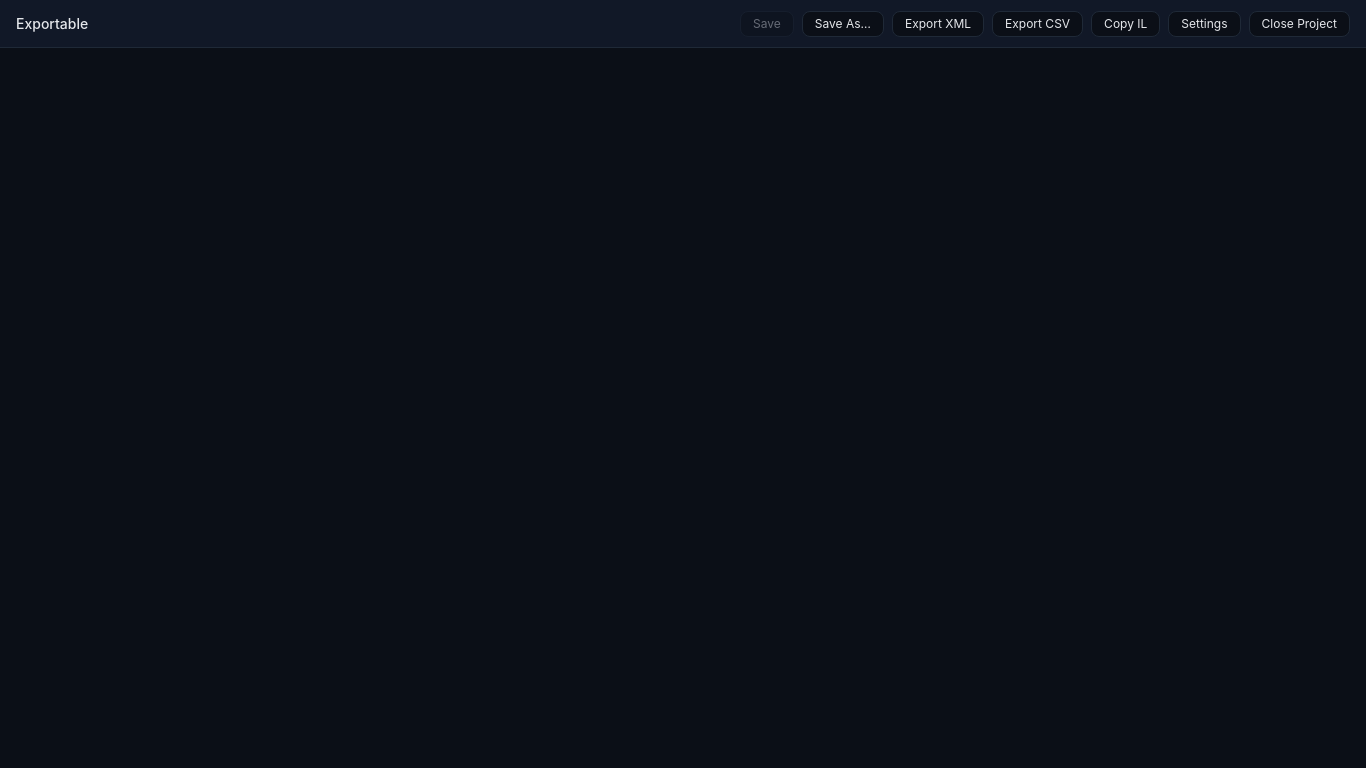
Scenario: ProjectToolbar error toasts (replaces window.alert) › Export XML failure shows an error toast instead of window.alert
Click the button with test id "export-xml-btn".
click(938, 24)  # box [892,10,984,36]
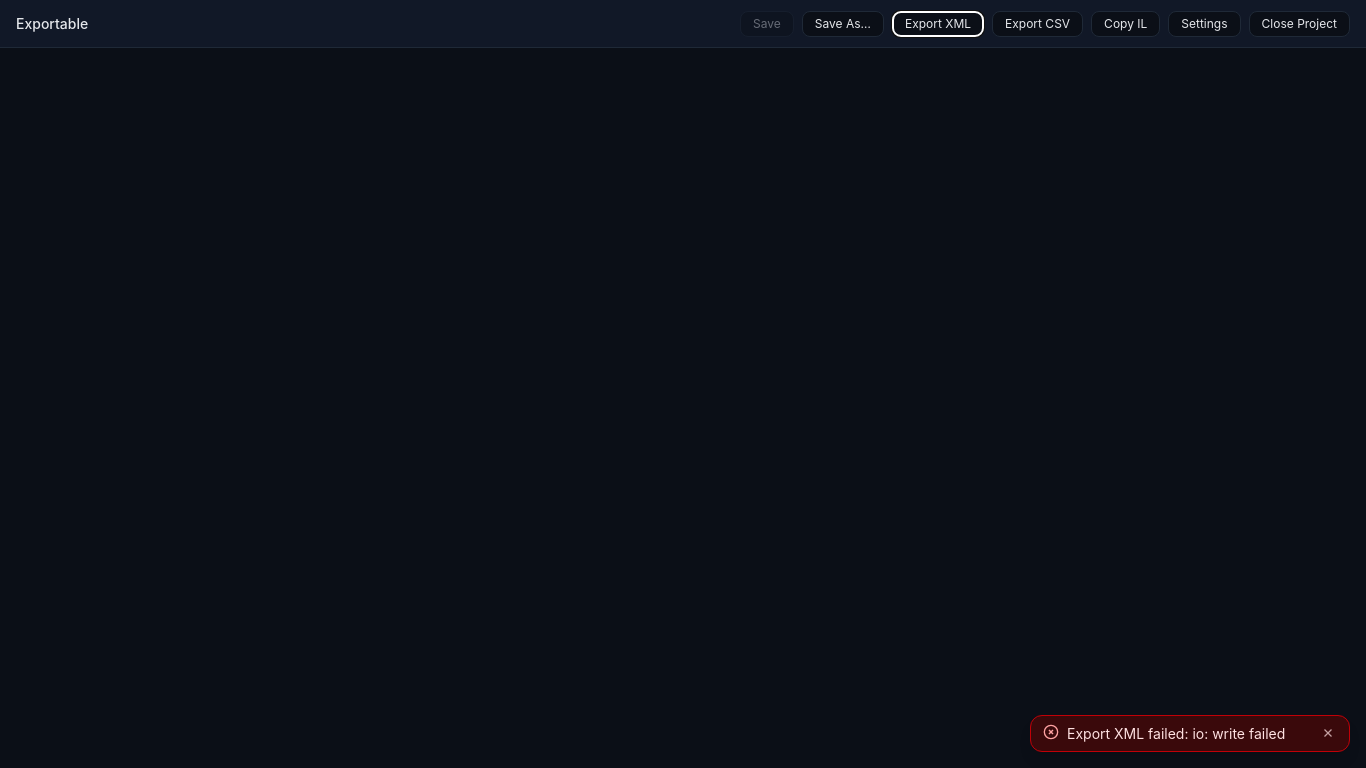
Now the message with test id "toast-error" shows "Export XML failed", box [1067,725,1285,742]
Now the message with test id "toast-error" shows "io: write failed", box [1067,725,1285,742]
